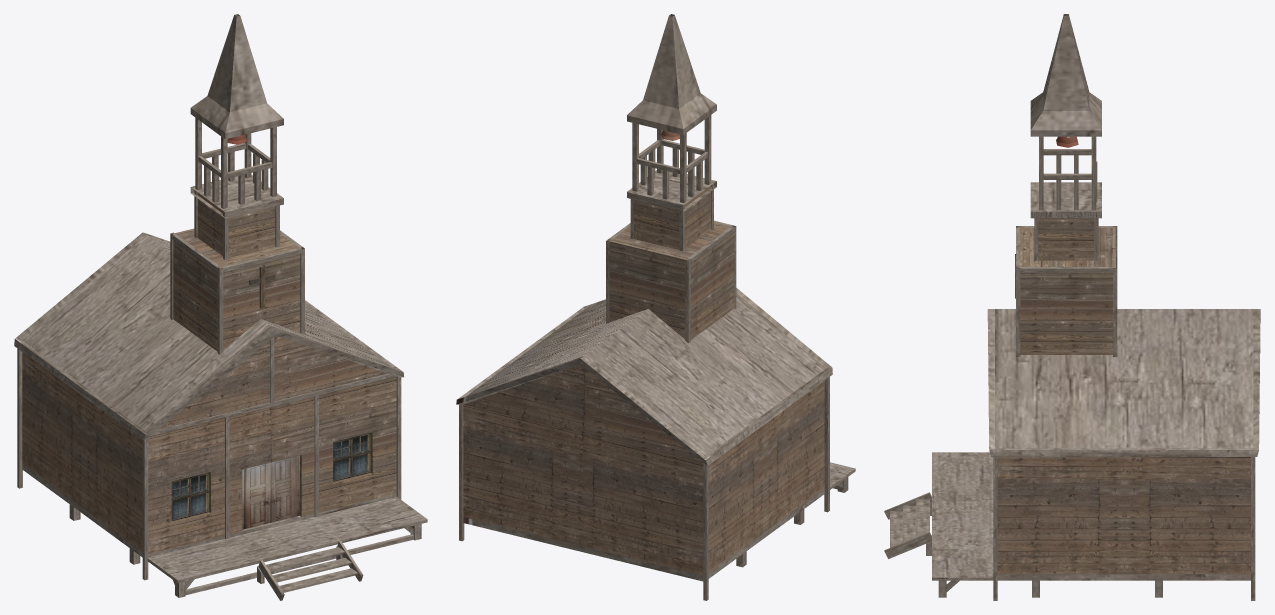
The model's file is church.walls-v1.lod1.glb.
3 views of the same model, side by side, from view 1: azimuth 30°, elevation 25°; view 2: azimuth 150°, elevation 25°; view 3: azimuth 270°, elevation 25° (orthographic). The views are drawn at different scales.
Visible parts, largest first — view 1: Object079_Material #30_0; view 2: Object079_Material #30_0; view 3: Object079_Material #30_0.
Part boxes in pixels (x1,y1,x2,y2): Object079_Material #30_0: (14,14,427,600); Object079_Material #30_0: (456,14,855,600); Object079_Material #30_0: (884,14,1260,600).
Bounding box in the file's own units: 8.52 × 16 × 10.38.
1 material, 1 textured.
